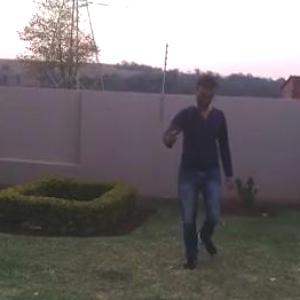takeoff-hand: (157, 120, 182, 156)
